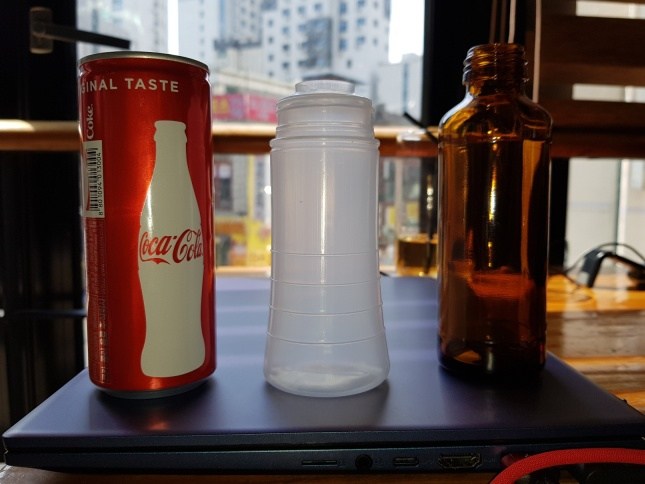Can: (70, 50, 222, 394)
Glass: (437, 38, 560, 394)
Plastic: (262, 77, 395, 402)
